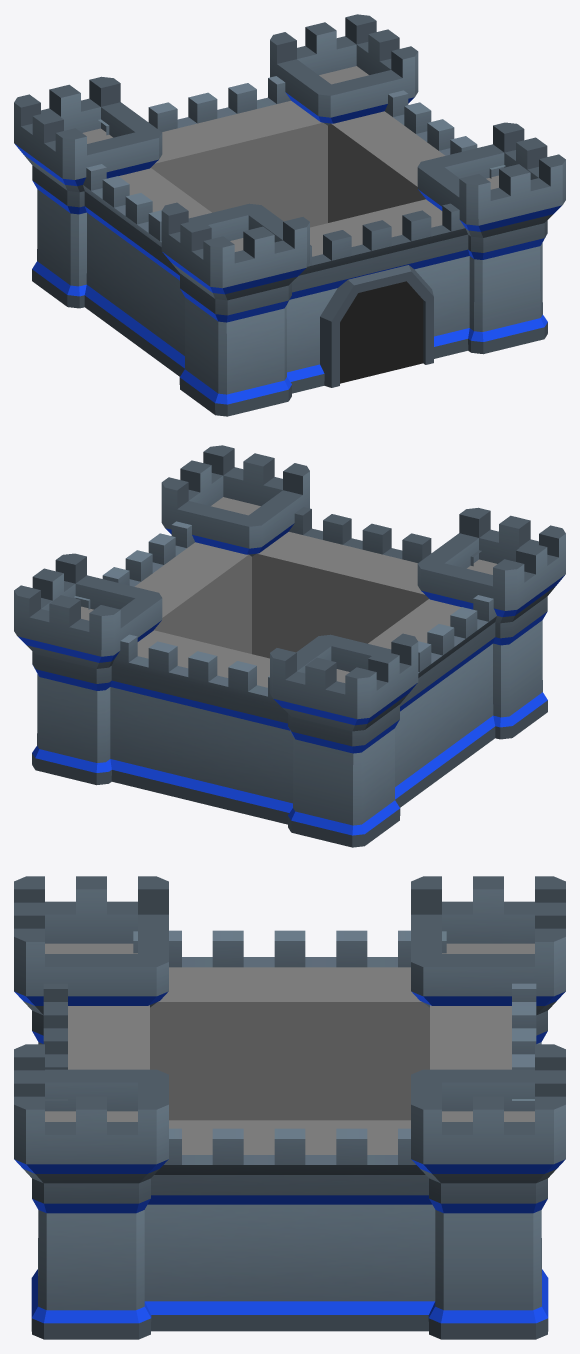
File: Castle_A_friendly.fbx
The picture shows the model from 3 angles, top to bottom: view 1: azimuth 30°, elevation 25°; view 2: azimuth 150°, elevation 25°; view 3: azimuth 270°, elevation 25°; orthographic projection. The views are drawn at different scales.
Visible parts, largest first — view 1: Castle_A_friendly; view 2: Castle_A_friendly; view 3: Castle_A_friendly.
Part boxes in pixels (left/top/right/bottom): Castle_A_friendly: left=14, top=14, right=565, bottom=416; Castle_A_friendly: left=14, top=445, right=565, bottom=847; Castle_A_friendly: left=14, top=876, right=565, bottom=1339.
Size of the model in its own units: 11.12 by 5.28 by 11.12.
